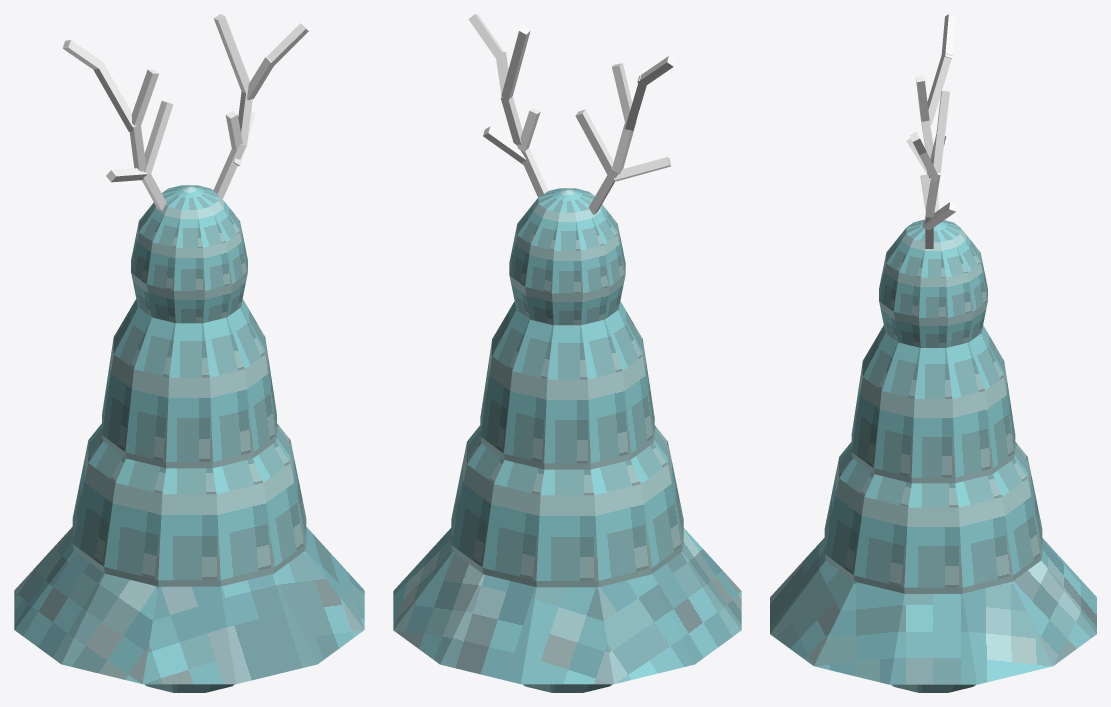
Rendered from spirit.gltf.
3 views of the same model, side by side, from view 1: azimuth 30°, elevation 25°; view 2: azimuth 150°, elevation 25°; view 3: azimuth 270°, elevation 25° (orthographic). The views are drawn at different scales.
Parts seen in each view (by area): view 1: skirt, torso, neck, head, cube (×8); view 2: skirt, torso, neck, head, cube (×8); view 3: skirt, torso, neck, head, cube (×2).
Part boxes in pixels (<box>): skirt: <box>14,527,364,684</box>; torso: <box>72,423,306,692</box>; neck: <box>102,299,276,468</box>; head: <box>131,185,247,323</box>; cube (×8): <box>62,14,308,198</box>; skirt: <box>393,528,741,684</box>; torso: <box>451,425,683,692</box>; neck: <box>480,301,654,469</box>; head: <box>509,188,625,325</box>; cube (×8): <box>483,27,671,197</box>; skirt: <box>770,538,1096,684</box>; torso: <box>824,442,1042,692</box>; neck: <box>851,325,1015,483</box>; head: <box>879,219,987,347</box>; cube (×2): <box>924,52,952,173</box>.
Size of the model in its own units: 0.75 by 1.58 by 0.75.
3 materials, 2 textured.
